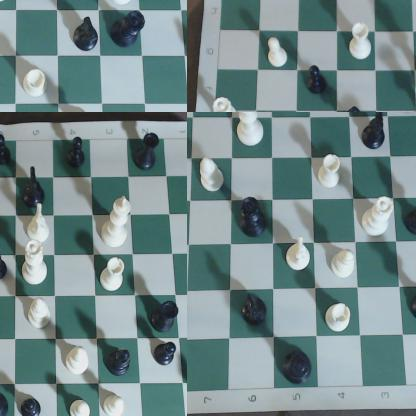black-bishop: (108, 347, 137, 379), (406, 201, 416, 236)
black-king: (282, 353, 314, 386), (1, 382, 17, 416)
black-knight: (23, 166, 52, 213), (359, 113, 390, 154), (71, 16, 100, 55), (240, 292, 267, 328)
black-pawn: (62, 139, 89, 171), (154, 340, 181, 371), (307, 65, 330, 99), (18, 394, 50, 416), (1, 133, 19, 169), (1, 252, 9, 283)
black-queen: (110, 9, 151, 54), (238, 199, 269, 242)
black-rook: (150, 296, 184, 338), (136, 133, 164, 177)
white-bishop: (198, 156, 227, 196), (24, 301, 57, 335), (65, 340, 93, 379), (331, 247, 356, 281)
white-king: (101, 192, 133, 254), (232, 113, 271, 152)
white-knight: (25, 206, 58, 251), (284, 239, 315, 274)
white-pawn: (101, 389, 131, 416), (268, 35, 290, 70), (66, 394, 97, 416)
white-queen: (359, 194, 398, 241), (20, 243, 56, 288), (213, 95, 254, 112)
white-rook: (97, 257, 132, 296), (325, 301, 356, 333), (350, 23, 374, 60), (23, 68, 52, 98), (317, 157, 340, 193)
